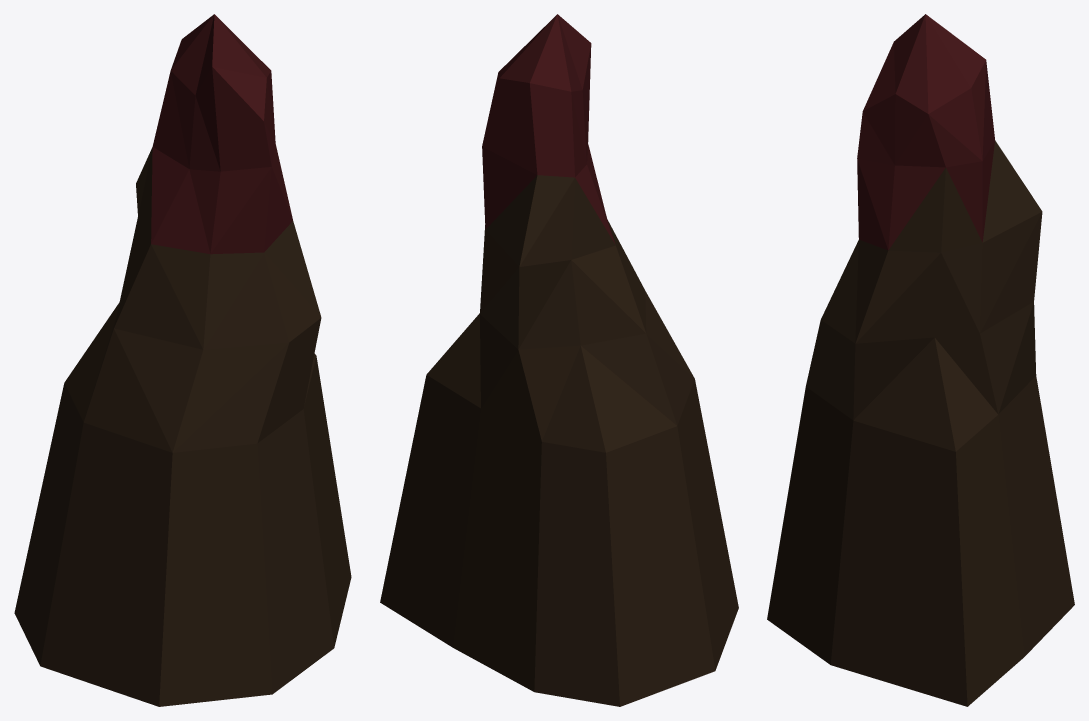
File: Island_B01_Spike1_Dark_Model.fbx
The picture shows the model from 3 angles, left to right: view 1: azimuth 30°, elevation 25°; view 2: azimuth 150°, elevation 25°; view 3: azimuth 270°, elevation 25°; orthographic projection.
Parts seen in each view (by area): view 1: Spike_01; view 2: Spike_01; view 3: Spike_01.
Part boxes in pixels (x1=…): Spike_01: x1=14, y1=14, x2=351, y2=706; Spike_01: x1=380, y1=14, x2=738, y2=706; Spike_01: x1=767, y1=14, x2=1074, y2=706.
Size of the model in its own units: 14.43 by 26.19 by 11.87.
